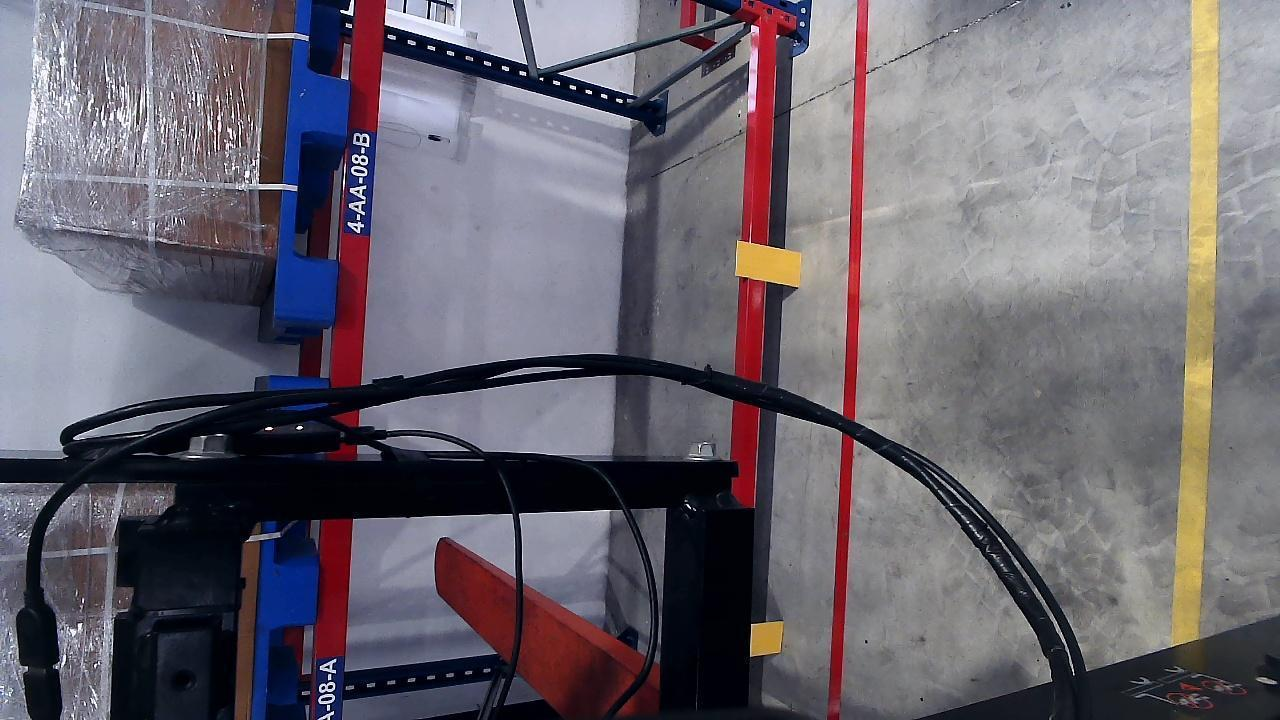red_line: (826, 3, 869, 717)
yellow_line: (1171, 0, 1221, 655)
